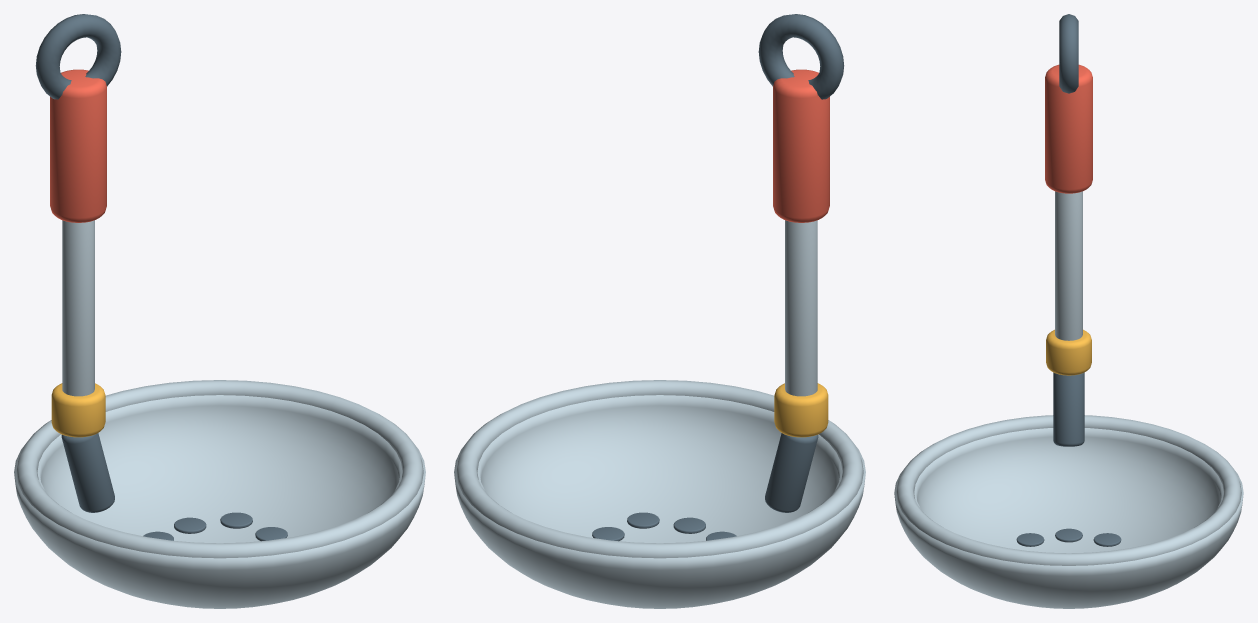
Rendered from LadleVertical.glb.
The picture shows the model from 3 angles, left to right: view 1: azimuth 30°, elevation 25°; view 2: azimuth 150°, elevation 25°; view 3: azimuth 270°, elevation 25°; orthographic projection. The views are drawn at different scales.
Parts seen in each view (by area): view 1: LadleVertical_Bowl, LadleVertical_Rim, LadleVertical_HandleGrip, LadleVertical_Handle, LadleVertical_PivotEye, LadleVertical_Neck, LadleVertical_Collar; view 2: LadleVertical_Bowl, LadleVertical_Rim, LadleVertical_HandleGrip, LadleVertical_Handle, LadleVertical_PivotEye, LadleVertical_Neck, LadleVertical_Collar; view 3: LadleVertical_Bowl, LadleVertical_Rim, LadleVertical_HandleGrip, LadleVertical_Handle, LadleVertical_Neck, LadleVertical_Collar, LadleVertical_PivotEye.
Part boxes in pixels (x1=…): LadleVertical_Bowl: x1=14, y1=395, x2=425, y2=608; LadleVertical_Rim: x1=16, y1=380, x2=423, y2=558; LadleVertical_HandleGrip: x1=50, y1=69, x2=106, y2=222; LadleVertical_Handle: x1=62, y1=220, x2=94, y2=396; LadleVertical_PivotEye: x1=35, y1=14, x2=121, y2=99; LadleVertical_Neck: x1=61, y1=433, x2=114, y2=512; LadleVertical_Collar: x1=51, y1=383, x2=105, y2=437; LadleVertical_Bowl: x1=454, y1=395, x2=865, y2=608; LadleVertical_Rim: x1=456, y1=380, x2=863, y2=558; LadleVertical_HandleGrip: x1=773, y1=69, x2=829, y2=222; LadleVertical_Handle: x1=785, y1=220, x2=817, y2=396; LadleVertical_PivotEye: x1=758, y1=14, x2=844, y2=99; LadleVertical_Neck: x1=765, y1=433, x2=818, y2=512; LadleVertical_Collar: x1=774, y1=383, x2=828, y2=437; LadleVertical_Bowl: x1=894, y1=428, x2=1243, y2=608; LadleVertical_Rim: x1=896, y1=415, x2=1241, y2=565; LadleVertical_HandleGrip: x1=1045, y1=64, x2=1092, y2=193; LadleVertical_Handle: x1=1055, y1=191, x2=1082, y2=340; LadleVertical_Neck: x1=1053, y1=372, x2=1084, y2=446; LadleVertical_Collar: x1=1046, y1=329, x2=1091, y2=375; LadleVertical_PivotEye: x1=1059, y1=14, x2=1078, y2=93.
Bounding box in the file's own units: 2.93 × 4.64 × 2.9.
